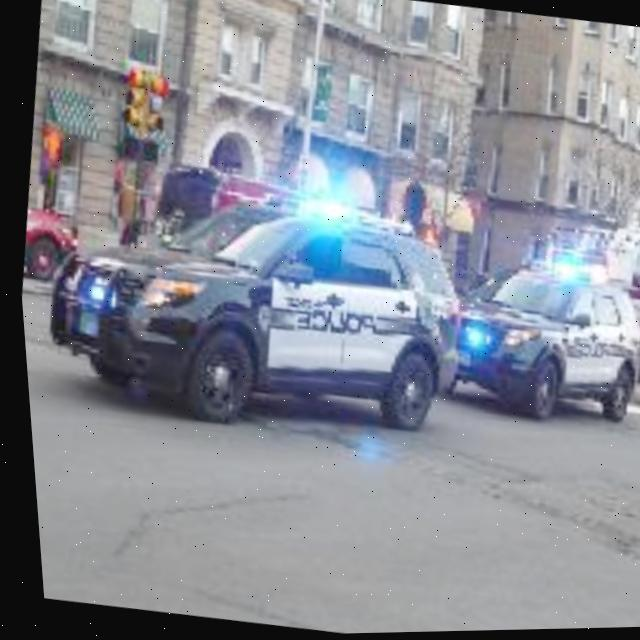emergency: (22, 172, 471, 458), (432, 249, 640, 436)
